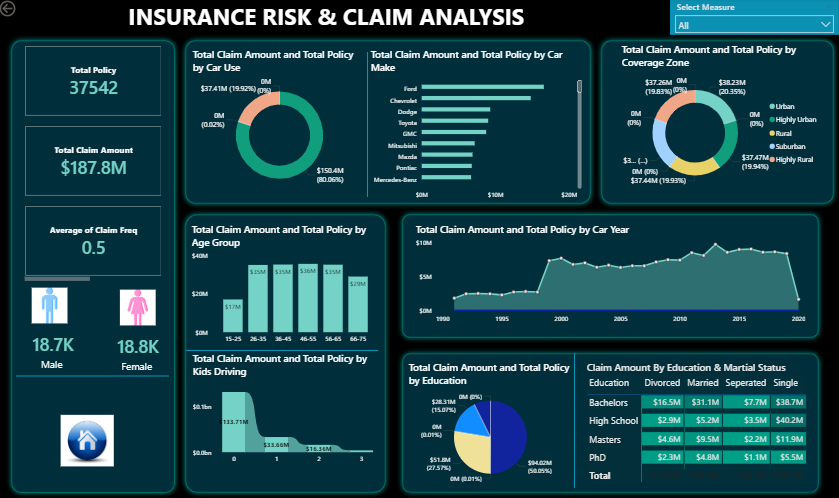

This screenshot's page, from the dashboard's own definition file:
{"tool":"powerbi","page":{"name":"Page 1","canvas":[1600,950],"ordinal":0},"visuals":[{"type":"textbox","box":[0,0,1252.1,70.3],"z":0},{"type":"shape","box":[17.1,70.5,331.1,880.1],"z":1000},{"type":"actionButton","box":[0,0,100,40],"z":2000},{"type":"cardVisual","fields":{"Data":["insurance_data_car.Total Policy","insurance_data_car.Total Claim Amount","Avg(insurance_data_car.Claim Freq)","insurance_data_car.AVG Claim Amount"]},"box":[47.5,85.5,269.8,459.8],"z":3000},{"type":"card","fields":{"Values":["insurance_data_car.Female Count"]},"box":[209,627,117.8,93.1],"z":4000},{"type":"card","fields":{"Values":["insurance_data_car.Male Count"]},"box":[47.5,623.2,117.8,93.1],"z":5000},{"type":"image","box":[58.9,545.3,81.7,77.9],"z":6000},{"type":"image","box":[218.5,549.1,98.8,77.9],"z":7000},{"type":"slicer","fields":{"Values":["Select Measure.Select Measure"]},"box":[1279.2,0,320.8,69.9],"z":8000},{"type":"shape","box":[347.7,70.3,790.4,330.6],"z":9000},{"type":"donutChart","fields":{"Y":["insurance_data_car.Total Claim Amount","insurance_data_car.Total Policy"],"Category":["insurance_data_car.Car Use"]},"box":[366.7,93.1,340.1,285],"z":10000},{"type":"clusteredBarChart","fields":{"Y":["insurance_data_car.Total Claim Amount","insurance_data_car.Total Policy"],"Category":["insurance_data_car.Car Make"]},"box":[705.4,92.5,411.3,298.2],"z":11000},{"type":"shape","box":[1138.1,70.3,461.7,330.6],"z":12000},{"type":"donutChart","fields":{"Y":["insurance_data_car.Total Claim Amount","insurance_data_car.Total Policy"],"Category":["insurance_data_car.Coverage Zone"]},"box":[1181.8,83.6,389.5,294.5],"z":13000},{"type":"shape","box":[347.7,400.9,400.9,549.1],"z":14000},{"type":"columnChart","fields":{"Y":["insurance_data_car.Total Claim Amount","insurance_data_car.Total Policy"],"Category":["insurance_data_car.Age Group"]},"box":[364.8,425.6,364.8,239.4],"z":15000},{"type":"ribbonChart","fields":{"Y":["insurance_data_car.Total Claim Amount","insurance_data_car.Total Policy"],"Category":["insurance_data_car.Kids Driving"]},"box":[366.7,670.7,362.9,222.3],"z":16000},{"type":"shape","box":[760,400.9,811.3,254.6],"z":17000},{"type":"areaChart","fields":{"Y":["insurance_data_car.Total Claim Amount","insurance_data_car.Total Policy"],"Category":["insurance_data_car.Car Year"]},"box":[790.4,425.6,750.5,201.4],"z":18000},{"type":"shape","box":[760,665,811.3,285],"z":19000},{"type":"pieChart","fields":{"Y":["insurance_data_car.Total Claim Amount","insurance_data_car.Total Policy"],"Category":["insurance_data_car.Education"]},"box":[777.1,687.8,321.1,243.2],"z":20000},{"type":"pivotTable","title":"Claim Amount By Education & Martial Status","fields":{"Rows":["insurance_data_car.Education"],"Columns":["insurance_data_car.Marital Status"],"Values":["insurance_data_car.Total Claim Amount"]},"box":[1115.3,687.8,440.8,243.2],"z":21000},{"type":"shape","box":[684,102.6,39.9,275.5],"z":22000},{"type":"shape","box":[1077.3,674.5,39.9,256.5],"z":23000},{"type":"shape","box":[359.1,653.6,364.8,32.3],"z":24000},{"type":"shape","box":[36.1,703,290.7,30.4],"z":25000},{"type":"actionButton","box":[100.4,769,138.9,143.1],"z":26000},{"type":"image","box":[115.4,779.7,111.1,123.9],"z":27000}]}

Visuals, with their boxes in screenshot pixels (x1, y1, x2, y2), scaled from the page's 1600x950 canvas onto the 839x498 screenshot:
textbox: 0 0 657 37
shape: 9 37 183 497
actionButton: 0 0 52 21
cardVisual - insurance_data_car.Total Policy x insurance_data_car.Total Claim Amount: 25 45 166 286
card - insurance_data_car.Female Count: 110 329 171 377
card - insurance_data_car.Male Count: 25 327 87 375
image: 31 286 74 327
image: 115 288 166 329
slicer - Select Measure.Select Measure: 671 0 838 37
shape: 182 37 597 210
donutChart - insurance_data_car.Total Claim Amount x insurance_data_car.Total Policy: 192 49 371 198
clusteredBarChart - insurance_data_car.Total Claim Amount x insurance_data_car.Total Policy: 370 48 586 205
shape: 597 37 838 210
donutChart - insurance_data_car.Total Claim Amount x insurance_data_car.Total Policy: 620 44 824 198
shape: 182 210 393 497
columnChart - insurance_data_car.Total Claim Amount x insurance_data_car.Total Policy: 191 223 383 349
ribbonChart - insurance_data_car.Total Claim Amount x insurance_data_car.Total Policy: 192 352 383 468
shape: 399 210 824 344
areaChart - insurance_data_car.Total Claim Amount x insurance_data_car.Total Policy: 414 223 808 329
shape: 399 349 824 497
pieChart - insurance_data_car.Total Claim Amount x insurance_data_car.Total Policy: 407 361 576 488
"Claim Amount By Education & Martial Status" pivotTable: 585 361 816 488
shape: 359 54 380 198
shape: 565 354 586 488
shape: 188 343 380 360
shape: 19 369 171 384
actionButton: 53 403 125 478
image: 61 409 119 474
